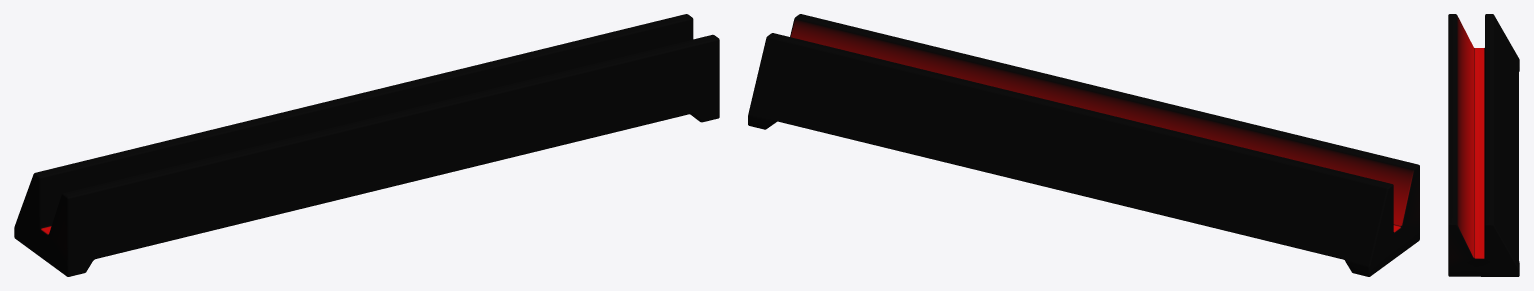
The model's file is GinRummy_CardHolder.fbx.
3 views of the same model, side by side, from view 1: azimuth 30°, elevation 25°; view 2: azimuth 150°, elevation 25°; view 3: azimuth 270°, elevation 25° (orthographic). The views are drawn at different scales.
Visible parts, largest first — view 1: GinRummy_CardHolder; view 2: GinRummy_CardHolder; view 3: GinRummy_CardHolder.
Boxes of the visible parts, <box> form: GinRummy_CardHolder: <box>14,14,719,276</box>; GinRummy_CardHolder: <box>748,14,1419,276</box>; GinRummy_CardHolder: <box>1448,14,1519,276</box>.
Bounding box in the file's own units: 29.7 × 3.48 × 4.24.
